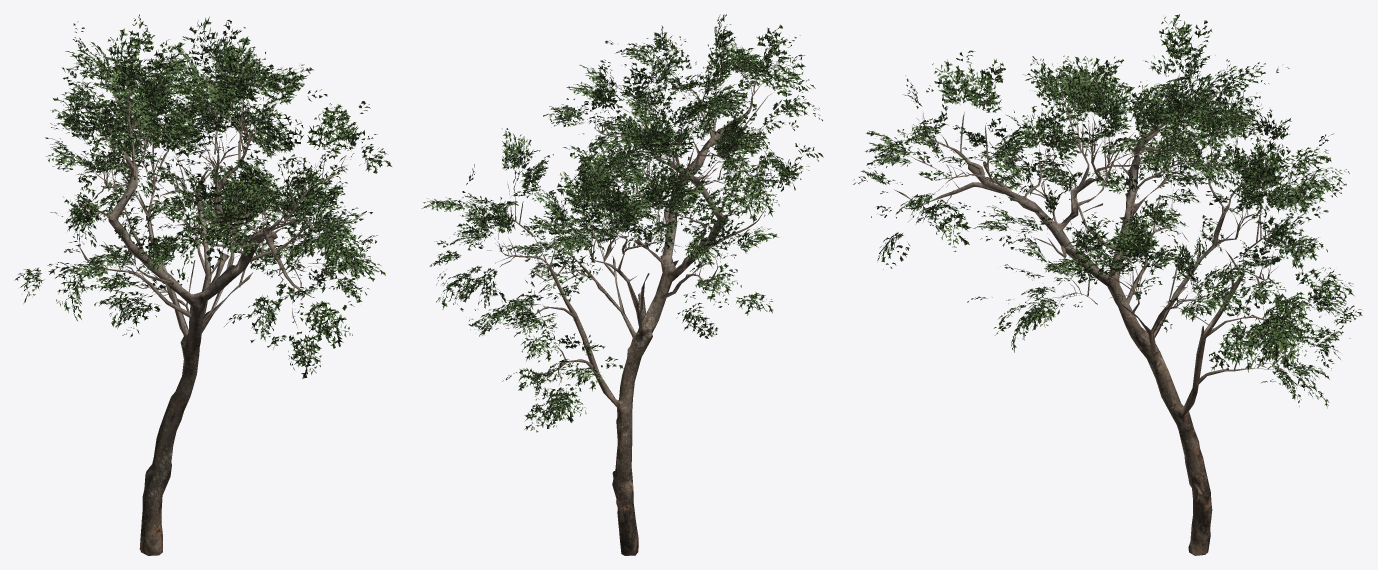
File: source.glb
3 views of the same model, side by side, from view 1: azimuth 30°, elevation 25°; view 2: azimuth 150°, elevation 25°; view 3: azimuth 270°, elevation 25° (orthographic). The views are drawn at different scales.
Visible parts, largest first — view 1: tree_small_02_LOD0; view 2: tree_small_02_LOD0; view 3: tree_small_02_LOD0.
Part boxes in pixels (x1,y1,x2,y2): tree_small_02_LOD0: [14, 14, 391, 555]; tree_small_02_LOD0: [421, 14, 823, 555]; tree_small_02_LOD0: [853, 14, 1362, 555].
Size of the model in its own units: 2.91 by 4.55 by 4.22.
Materials: 3 (3 with a texture image).
